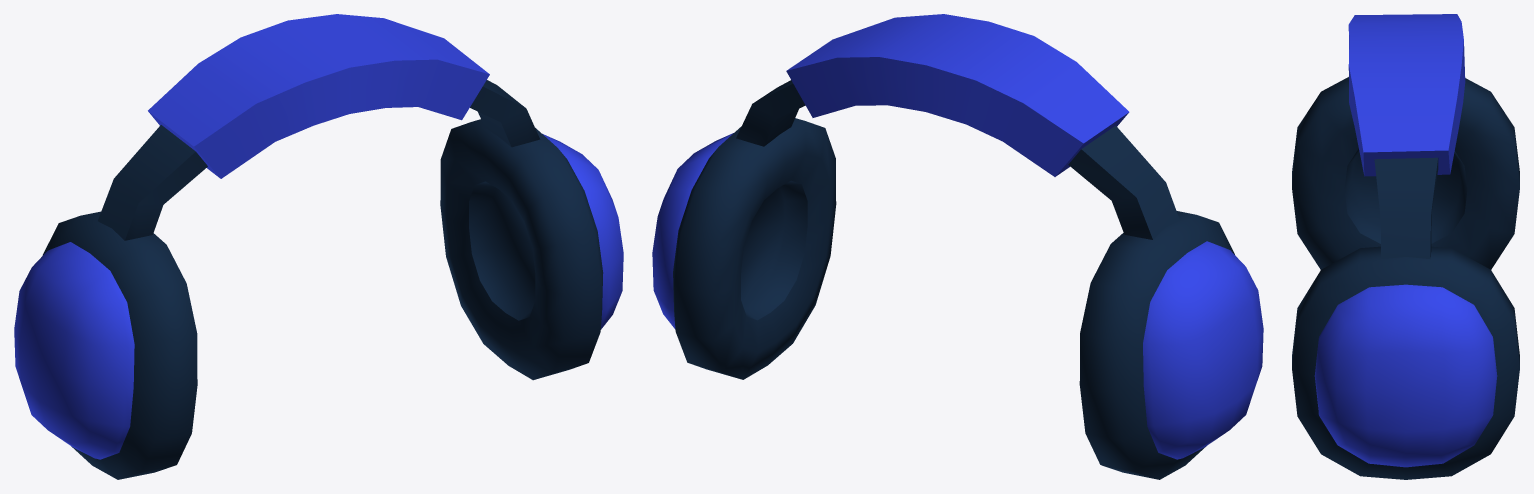
Rendered from Headphones_02.fbx.
3 views of the same model, side by side, from view 1: azimuth 30°, elevation 25°; view 2: azimuth 150°, elevation 25°; view 3: azimuth 270°, elevation 25° (orthographic). The views are drawn at different scales.
Parts seen in each view (by area): view 1: Headphones_02; view 2: Headphones_02; view 3: Headphones_02.
Boxes of the visible parts, left/top/right/bottom form: Headphones_02: left=14, top=14, right=623, bottom=479; Headphones_02: left=652, top=14, right=1263, bottom=479; Headphones_02: left=1292, top=14, right=1519, bottom=479.
Size of the model in its own units: 0.8718 by 0.5483 by 0.3329.
